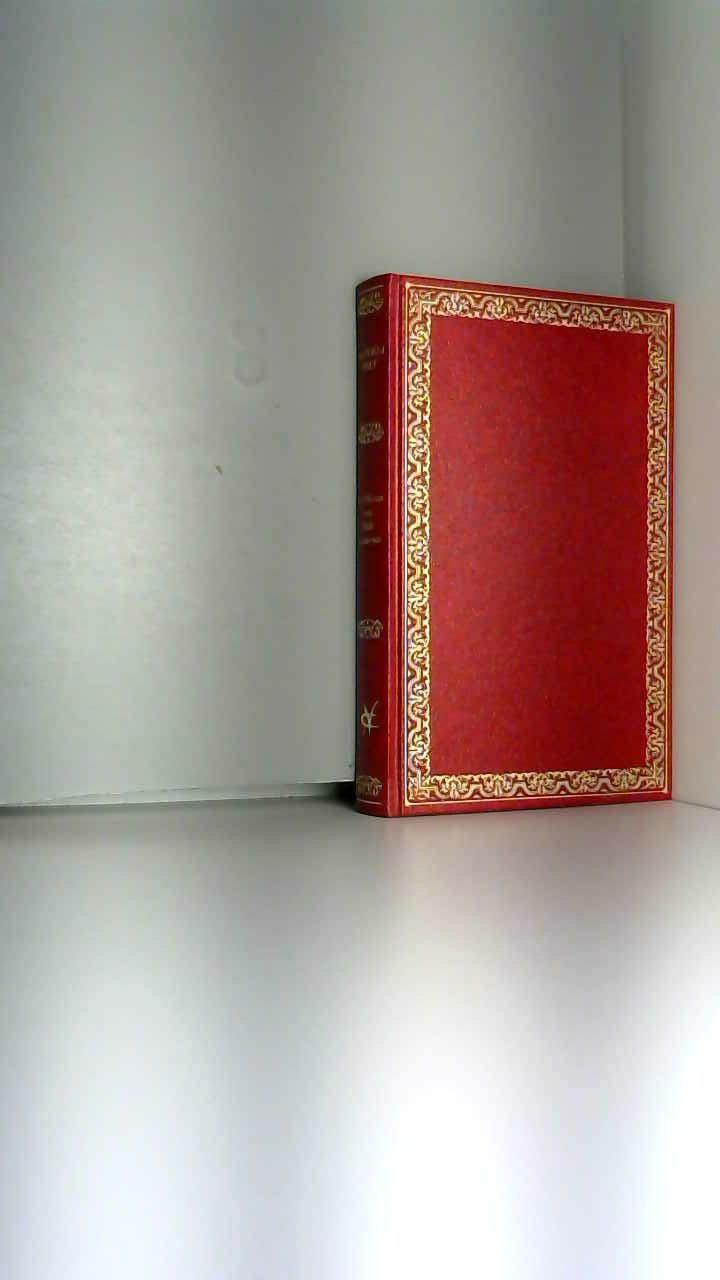book: (320, 240, 715, 835)
